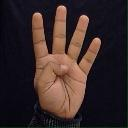hand: (31, 4, 101, 120)
